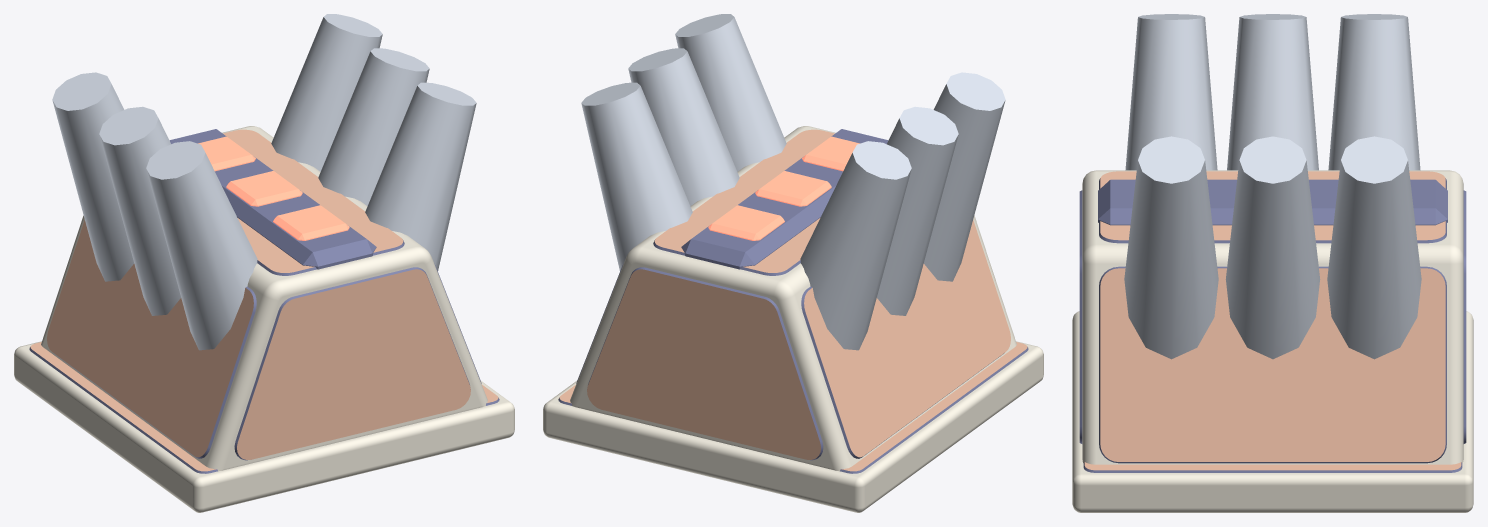
The model's file is R4X_Overdrive.fbx.
3 renders of one model, left to right at view 1: azimuth 30°, elevation 25°; view 2: azimuth 150°, elevation 25°; view 3: azimuth 270°, elevation 25°, orthographic. The views are drawn at different scales.
Visible parts, largest first — view 1: R4X_Overdrive_Body; view 2: R4X_Overdrive_Body; view 3: R4X_Overdrive_Body.
Part boxes in pixels (x1=…): R4X_Overdrive_Body: x1=14, y1=14, x2=514, y2=512; R4X_Overdrive_Body: x1=543, y1=14, x2=1043, y2=512; R4X_Overdrive_Body: x1=1072, y1=14, x2=1473, y2=512.
Size of the model in its own units: 0.5147 by 0.5019 by 0.514.
